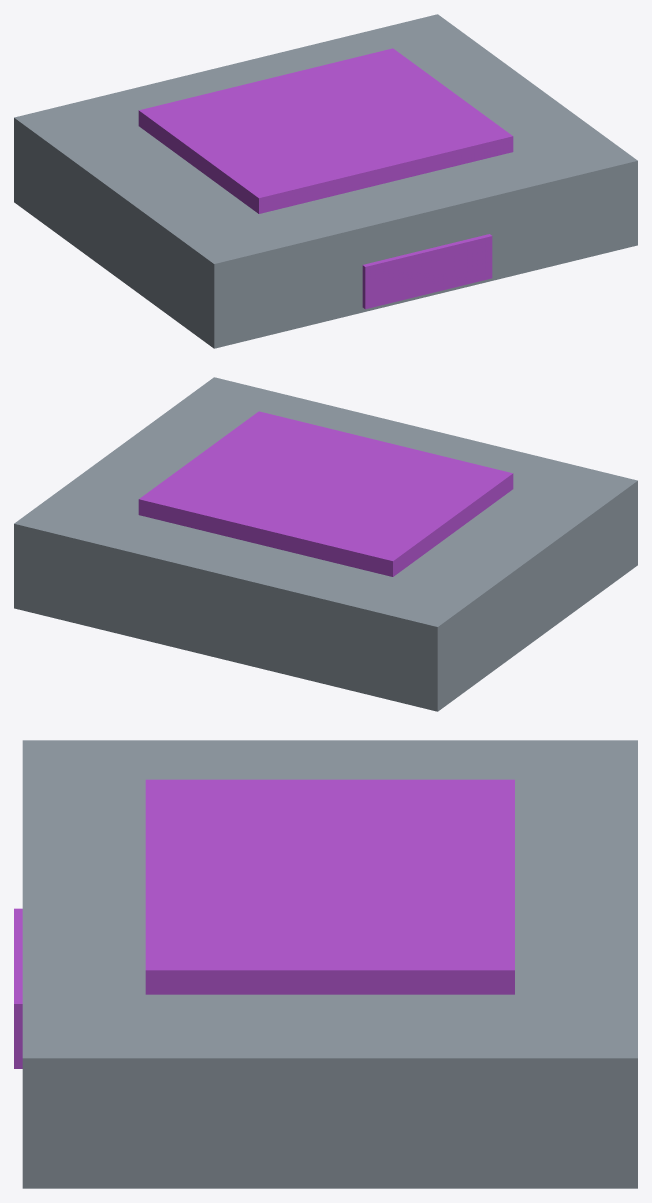
The model's file is SM_Chronolegion_CH_CriticalPointBomber_Blockout.fbx.
3 views of the same model, one above another, from view 1: azimuth 30°, elevation 25°; view 2: azimuth 150°, elevation 25°; view 3: azimuth 270°, elevation 25° (orthographic). The views are drawn at different scales.
Parts seen in each view (by area): view 1: MainBuilding, RoofStructure, EntranceGate; view 2: MainBuilding, RoofStructure; view 3: MainBuilding, RoofStructure, EntranceGate.
Boxes of the visible parts, box(x1,y1,x2,y2) form: MainBuilding: box(14, 14, 637, 348); RoofStructure: box(138, 48, 513, 213); EntranceGate: box(362, 234, 492, 309); MainBuilding: box(14, 377, 637, 711); RoofStructure: box(138, 411, 513, 576); MainBuilding: box(22, 740, 637, 1188); RoofStructure: box(145, 779, 514, 994); EntranceGate: box(14, 908, 22, 1068).
Bounding box in the file's own units: 880 × 200 × 730.
